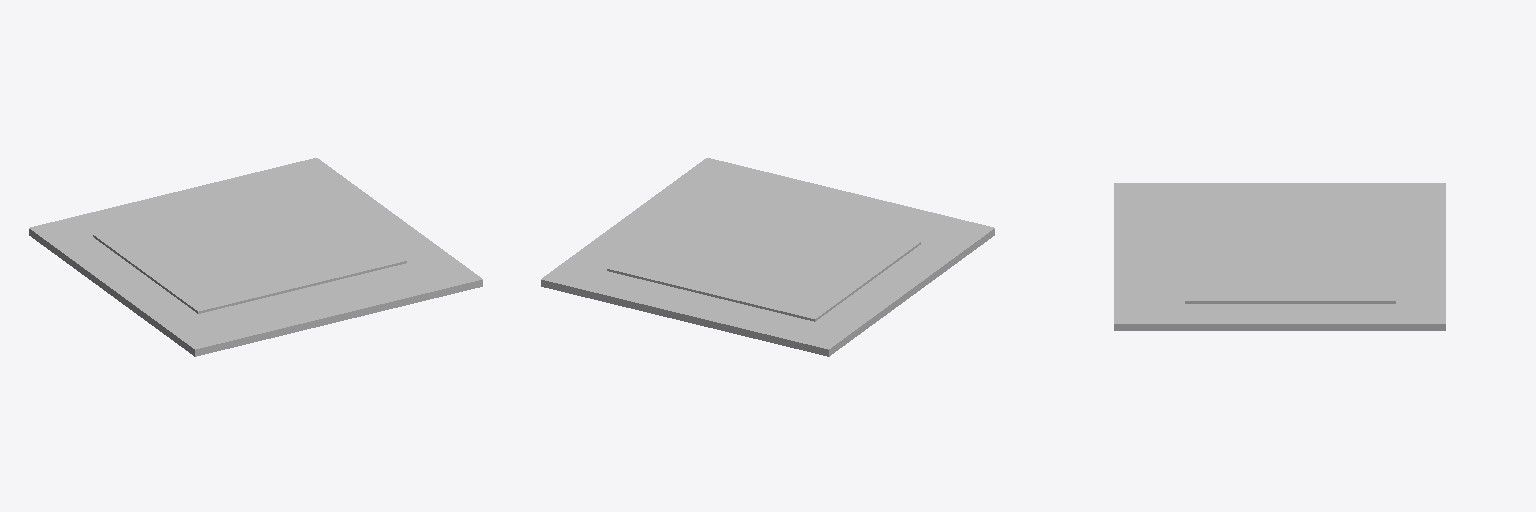
The model's file is lastra ghiaccio.obj.
The picture shows the model from 3 angles: view 1: azimuth 30°, elevation 25°; view 2: azimuth 150°, elevation 25°; view 3: azimuth 270°, elevation 25°; orthographic projection.
Size of the model in its own units: 126 by 4 by 126.